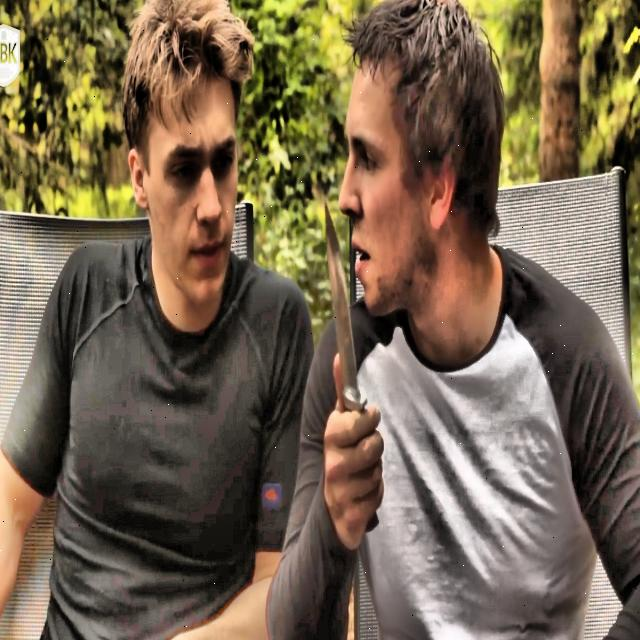knife: (323, 204, 379, 534)
